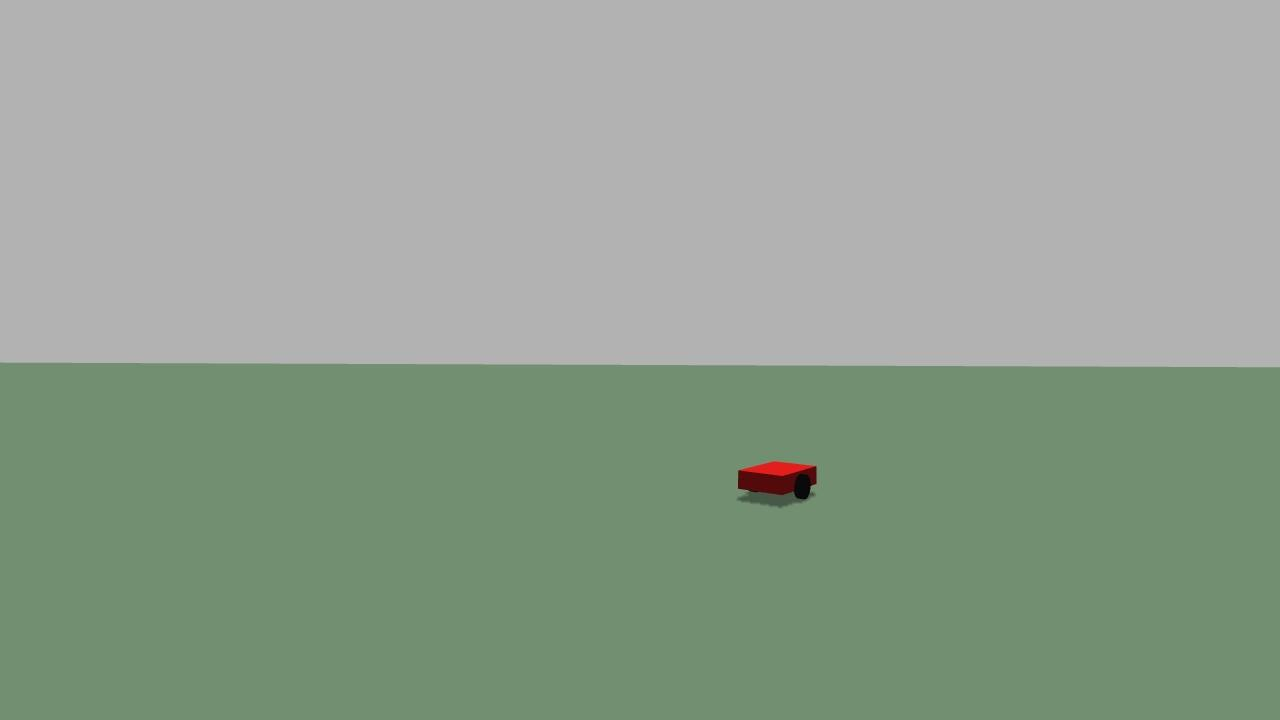ground_vehicle: (732, 455, 825, 506)
